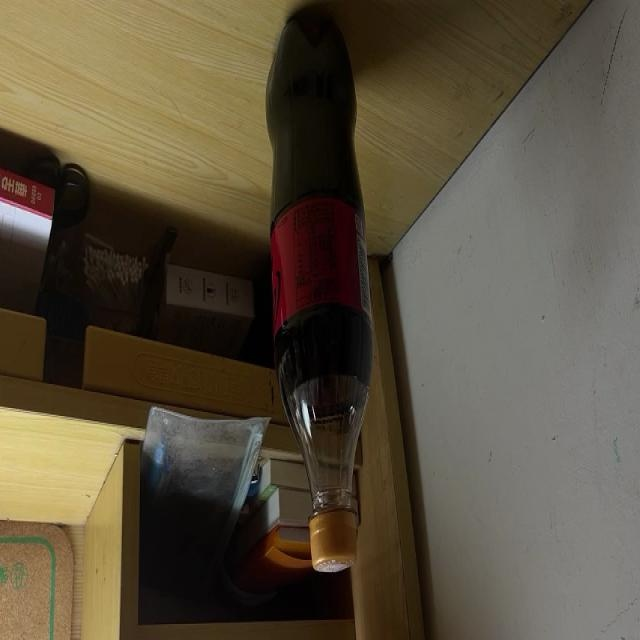Coca-Cola: (263, 9, 374, 574)
